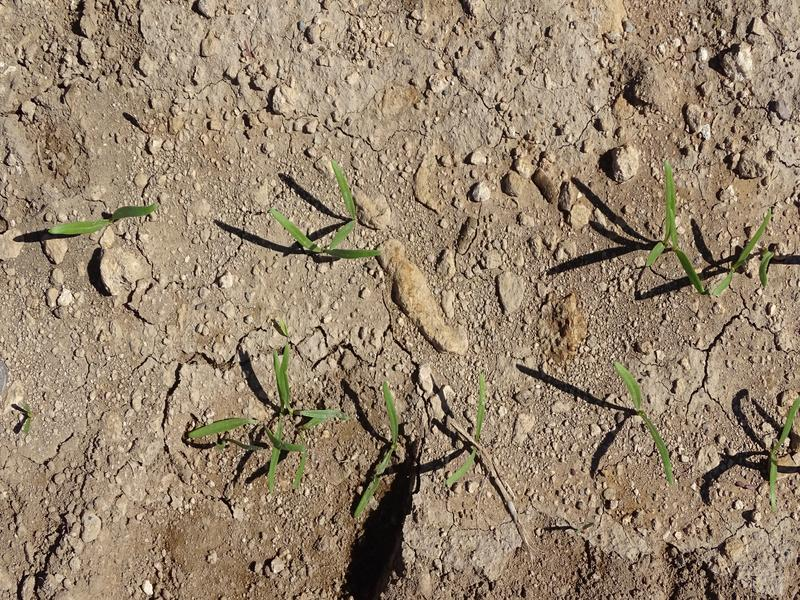Espinaca: (204, 342, 329, 484), (266, 159, 385, 260), (615, 360, 681, 483), (361, 377, 398, 517), (449, 371, 490, 484), (46, 201, 166, 239), (642, 161, 679, 264), (766, 394, 797, 503), (678, 250, 741, 297)
